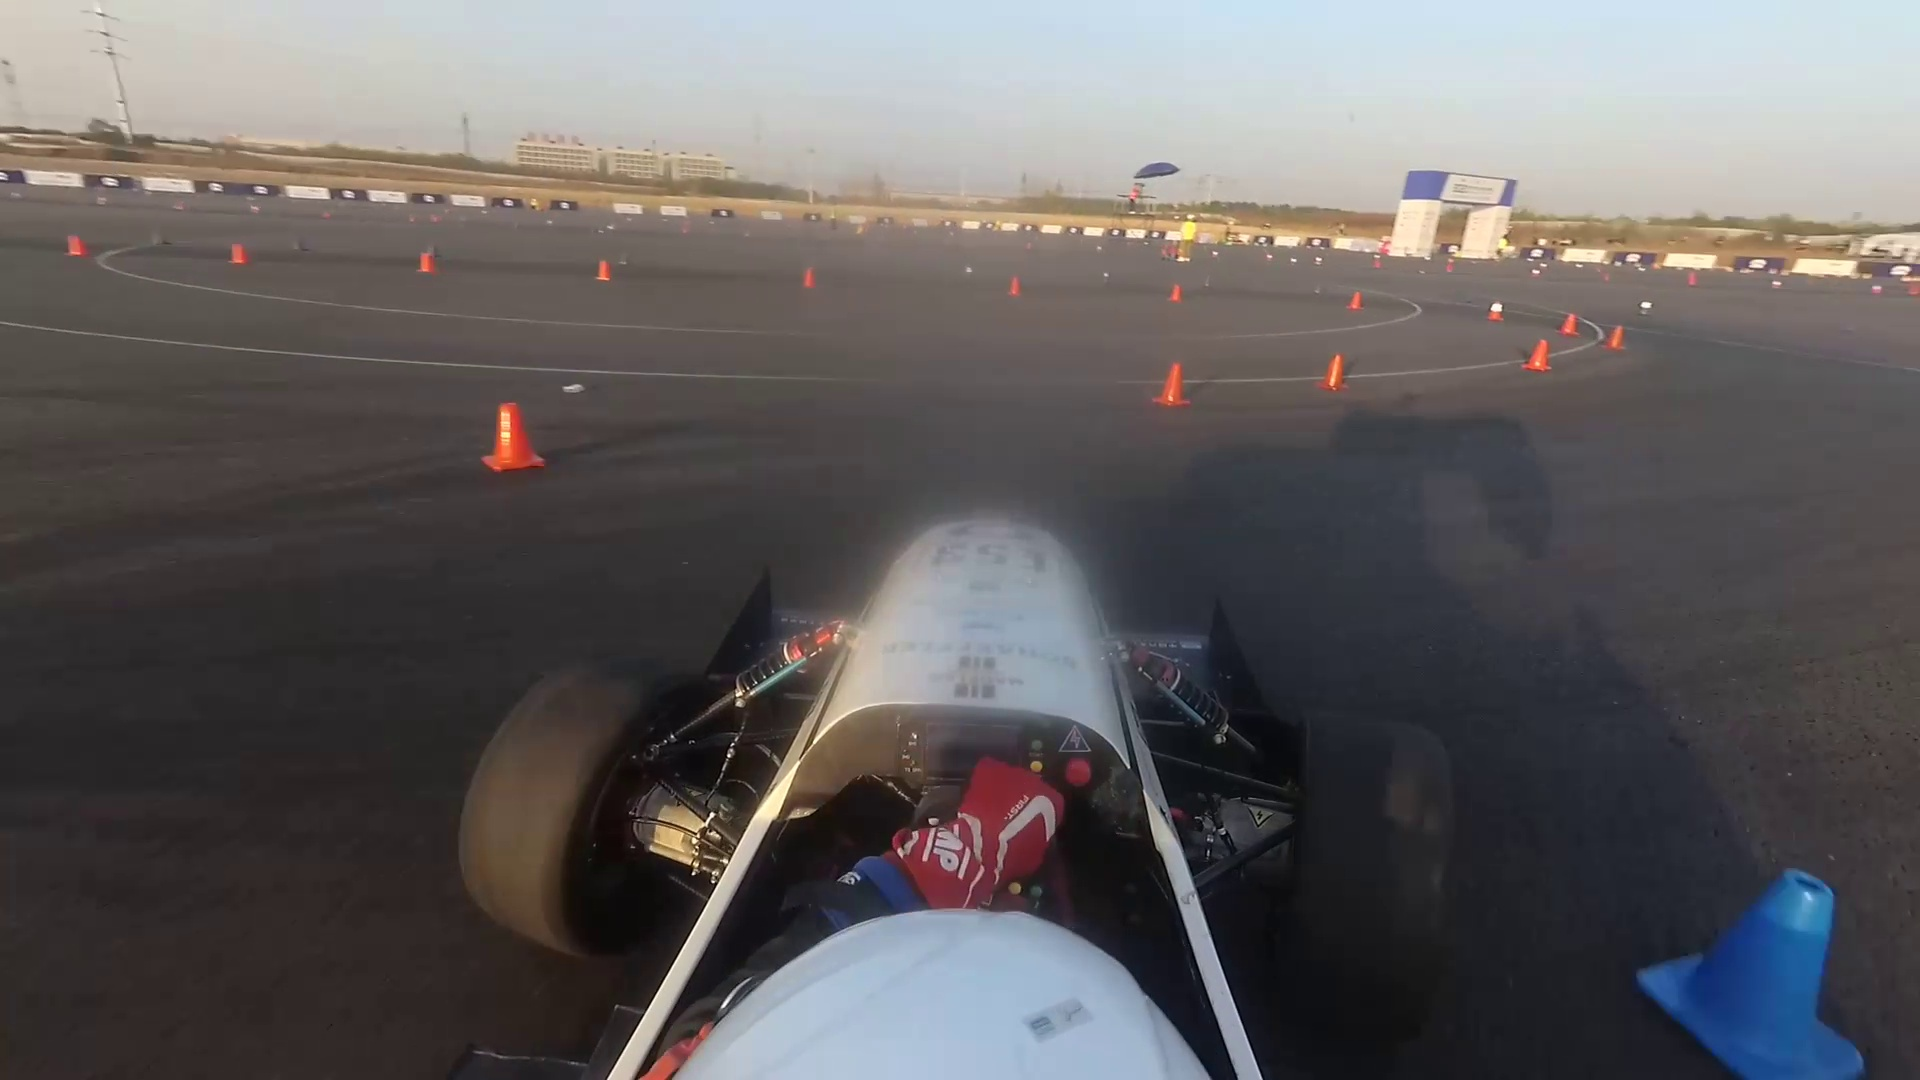blue_cone: (1648, 862, 1871, 1077), (483, 410, 545, 469), (149, 227, 167, 247), (1098, 269, 1114, 286), (1638, 299, 1650, 318), (290, 240, 305, 255), (959, 265, 975, 277), (1203, 274, 1213, 287), (617, 255, 628, 268)
red_cone: (1156, 363, 1188, 407), (1323, 353, 1350, 392), (1524, 338, 1552, 371), (1485, 299, 1507, 324), (1557, 313, 1580, 336), (800, 265, 822, 289), (593, 257, 615, 281), (69, 235, 87, 260), (1609, 324, 1625, 353), (229, 243, 251, 264), (1166, 285, 1185, 307), (1342, 291, 1364, 310), (421, 252, 436, 272), (1007, 276, 1021, 295), (1689, 272, 1698, 287)
